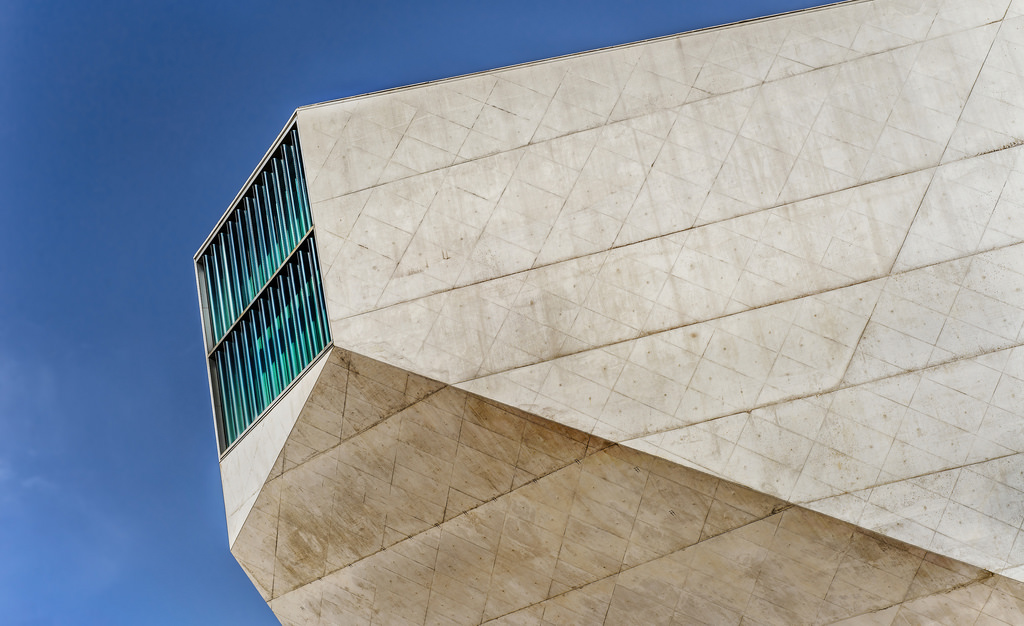musica: (190, 0, 1023, 625)
